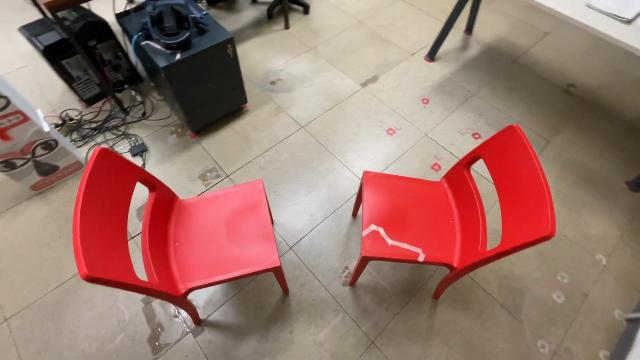Chair: (68, 145, 292, 331), (346, 122, 560, 304)
